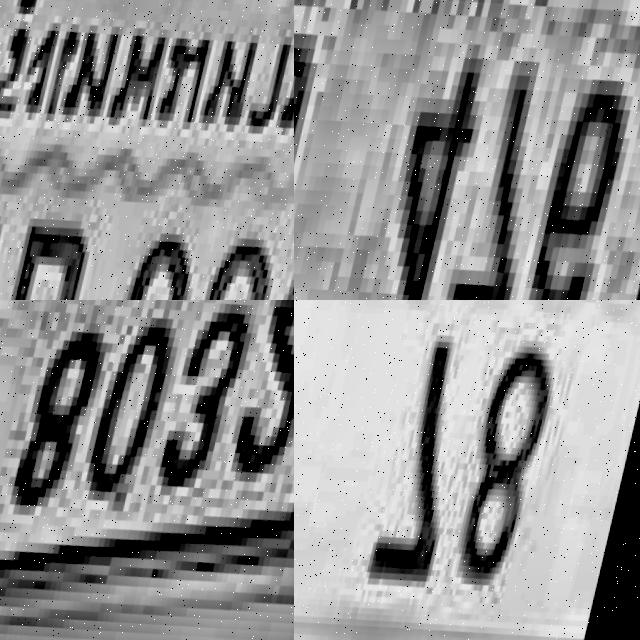license-plate: (294, 300, 640, 640), (294, 0, 640, 300), (0, 300, 294, 640), (0, 0, 294, 300)
